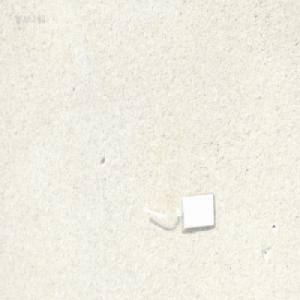LuggageTag: (143, 190, 215, 232)
